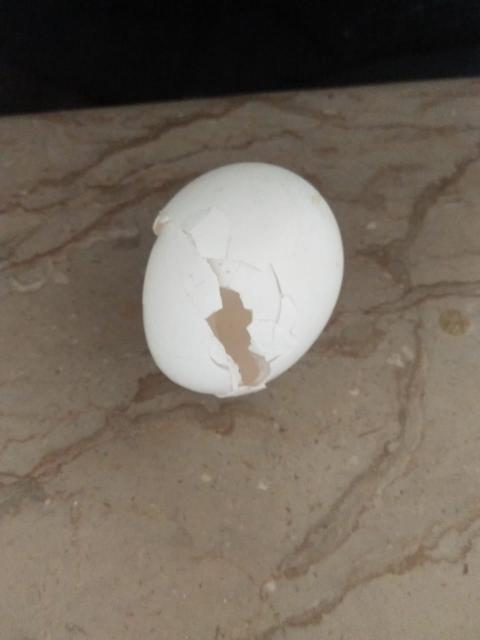Roto: (141, 160, 345, 399)
